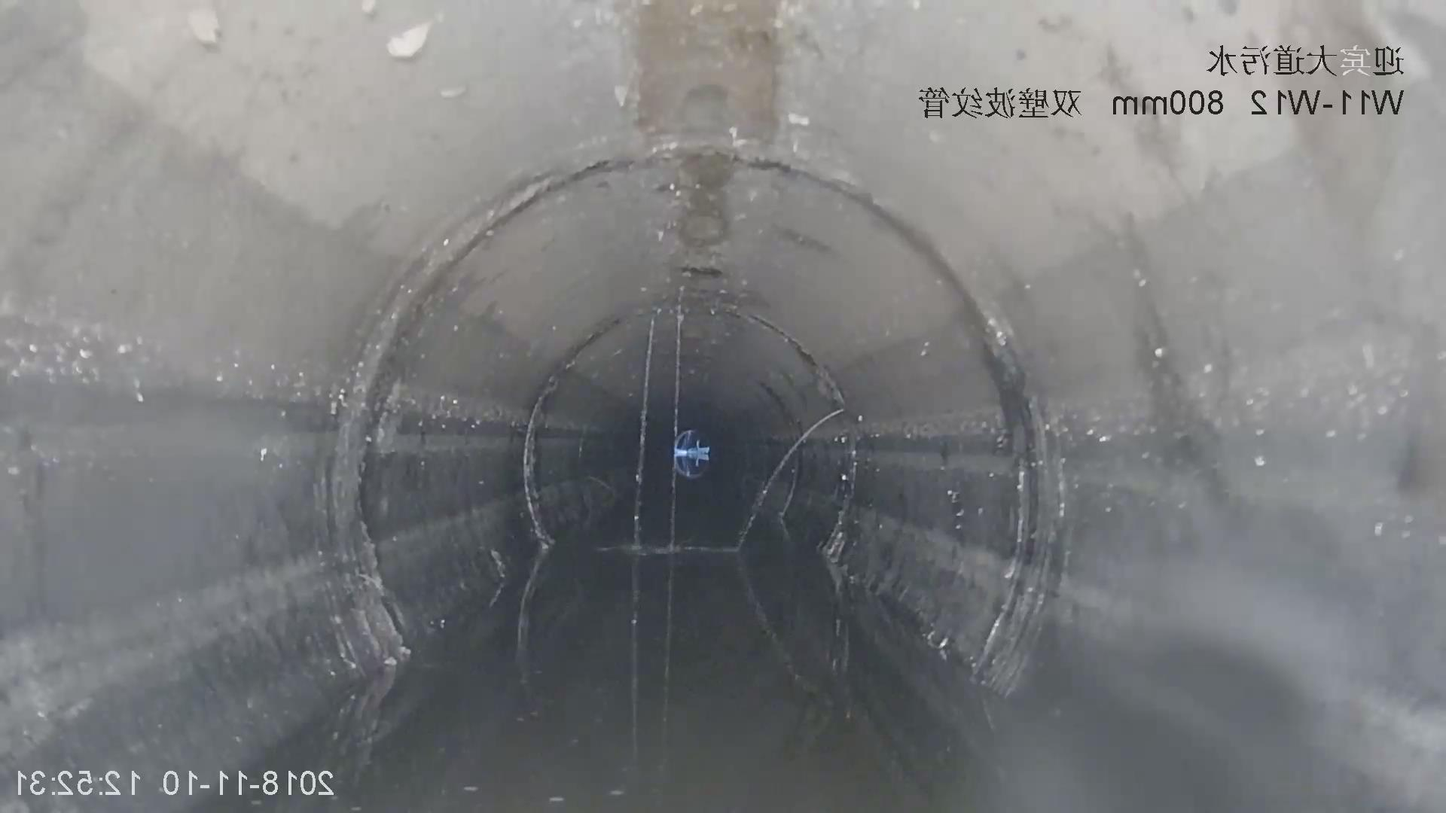SL: (556, 290, 876, 551)
